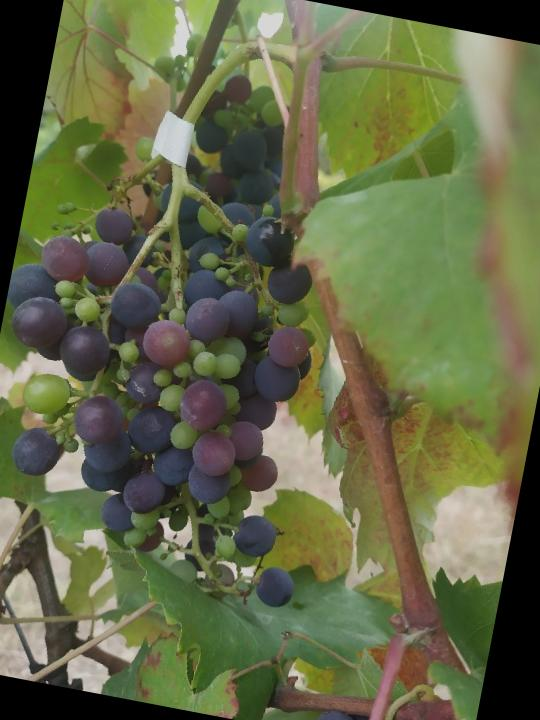grape: (0, 149, 369, 615)
